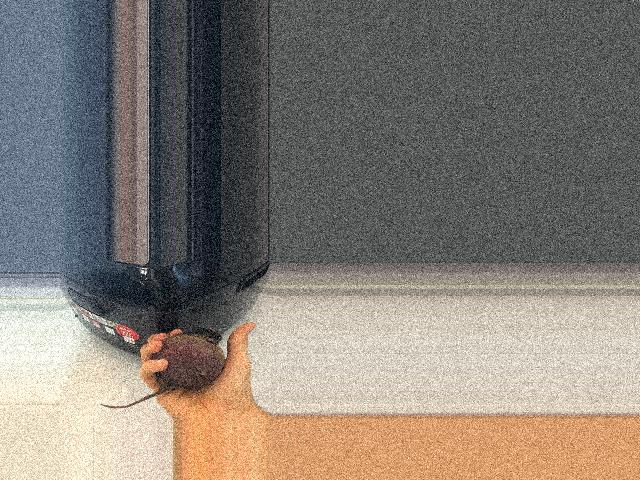beet: (100, 327, 224, 409)
